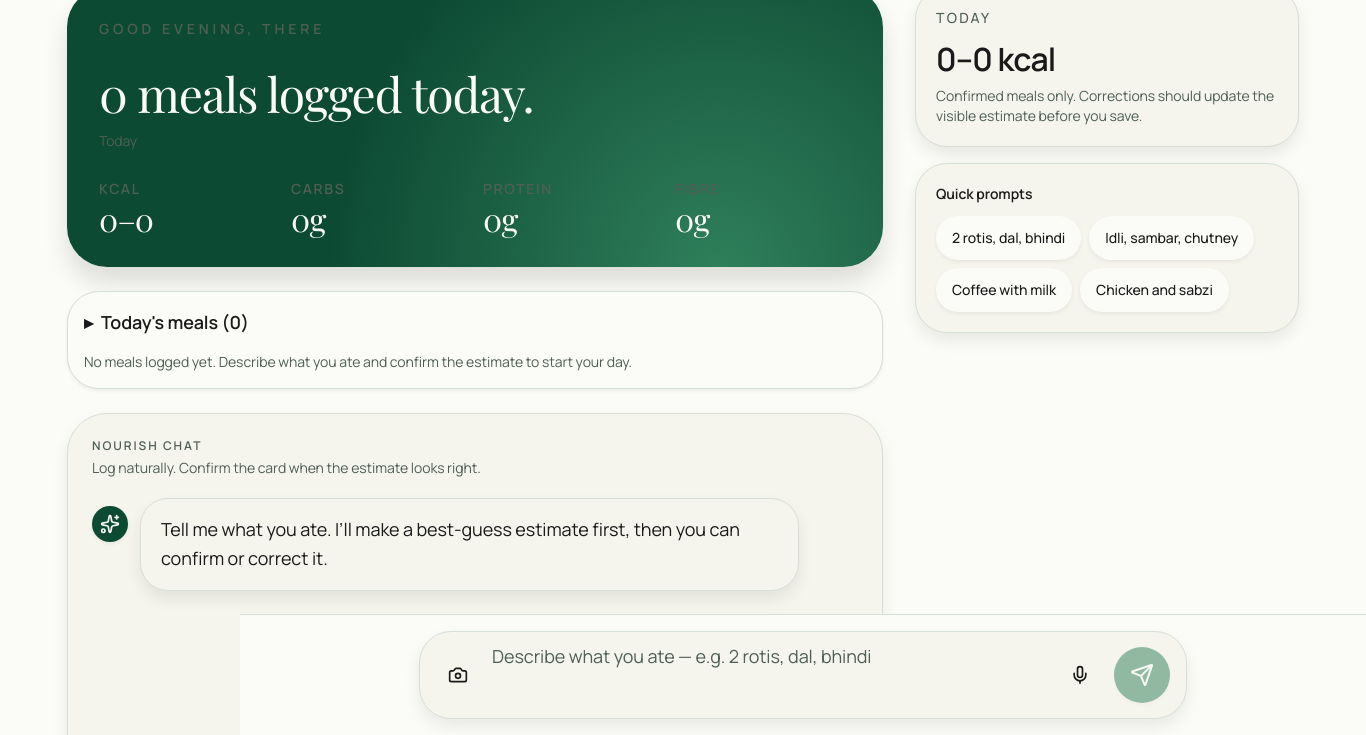
Test: ChatMealLogger › does not render a broken save form when the assistant has no confirm payload
This screenshot has width=1366, height=735.
Type "I had unknown food" into the text box named "Meal message".
click(769, 672); type("I had unknown food")  # box [492,644,1046,700]
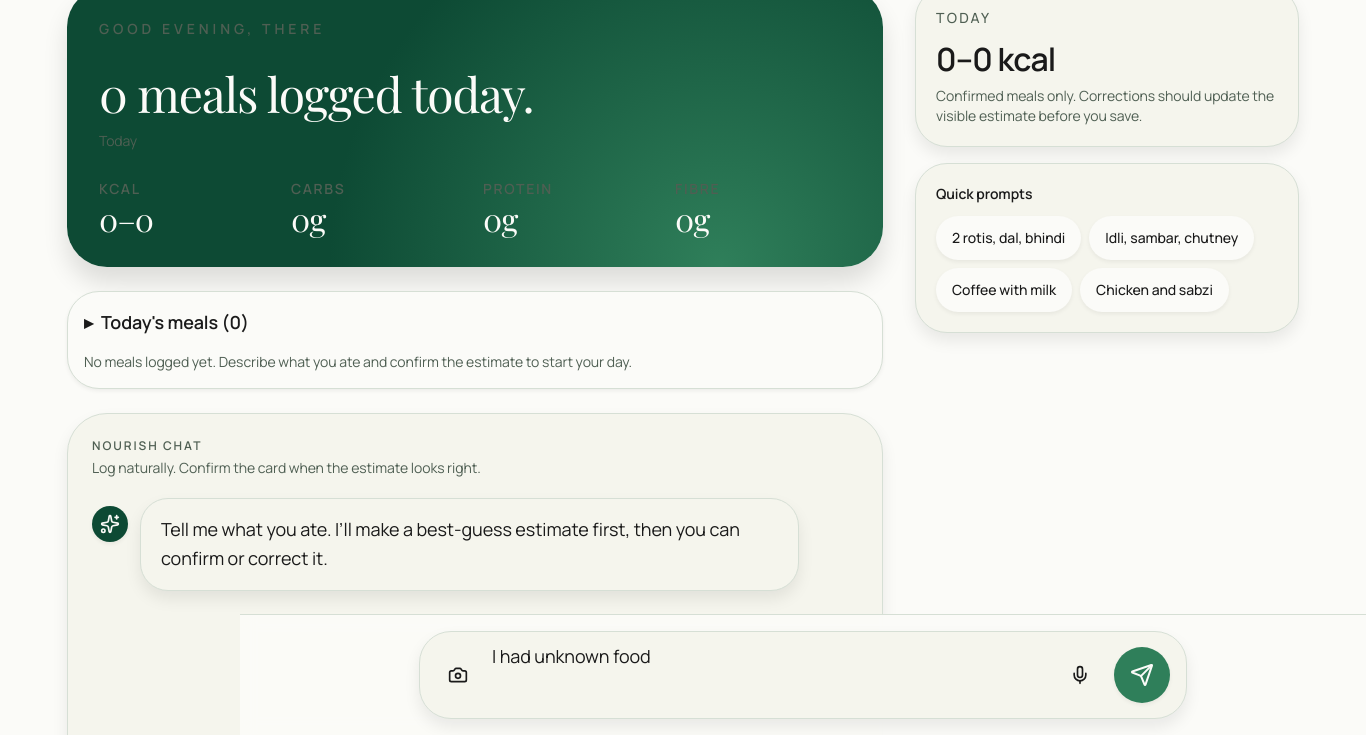
Click the button named "Send meal message".
click(1142, 675)  # box [1114,647,1170,703]
(page scrolled)
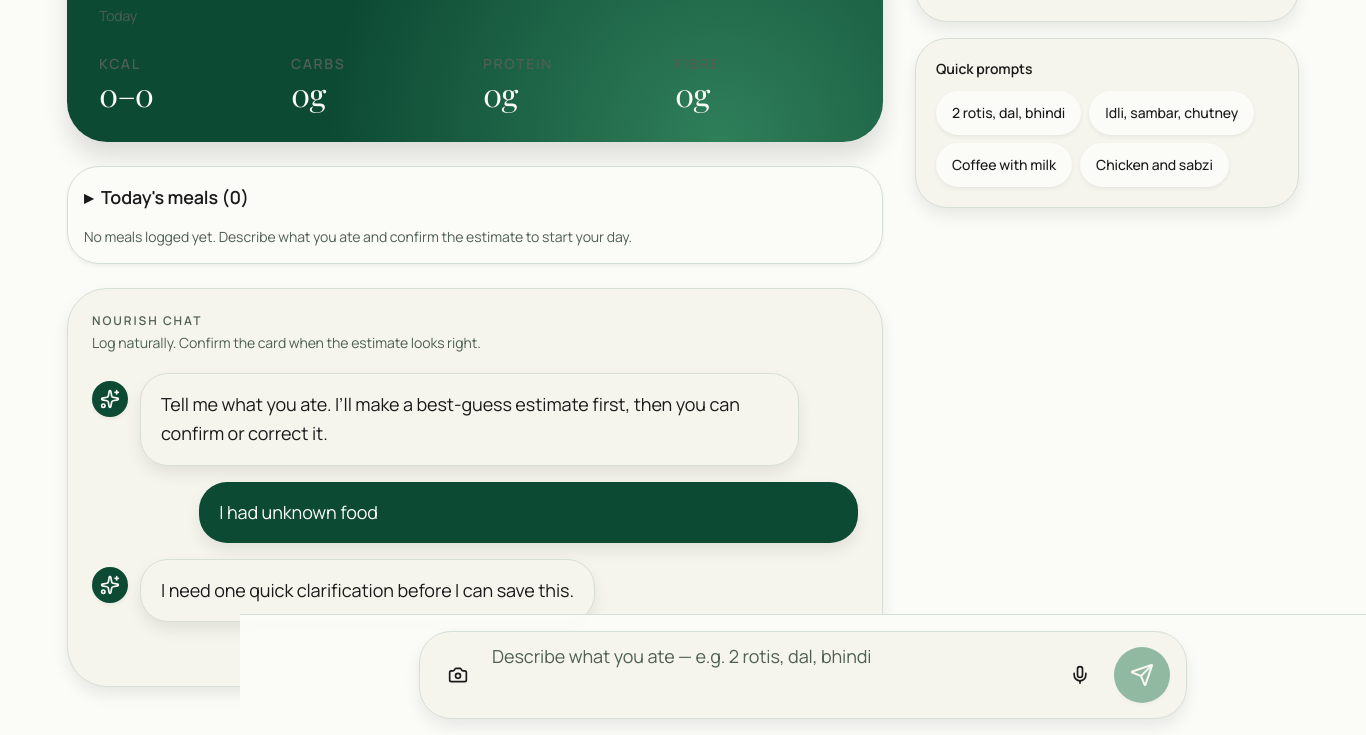
Now the text "I need one quick clarification before I can save this." is shown, box [140,559,595,622]
